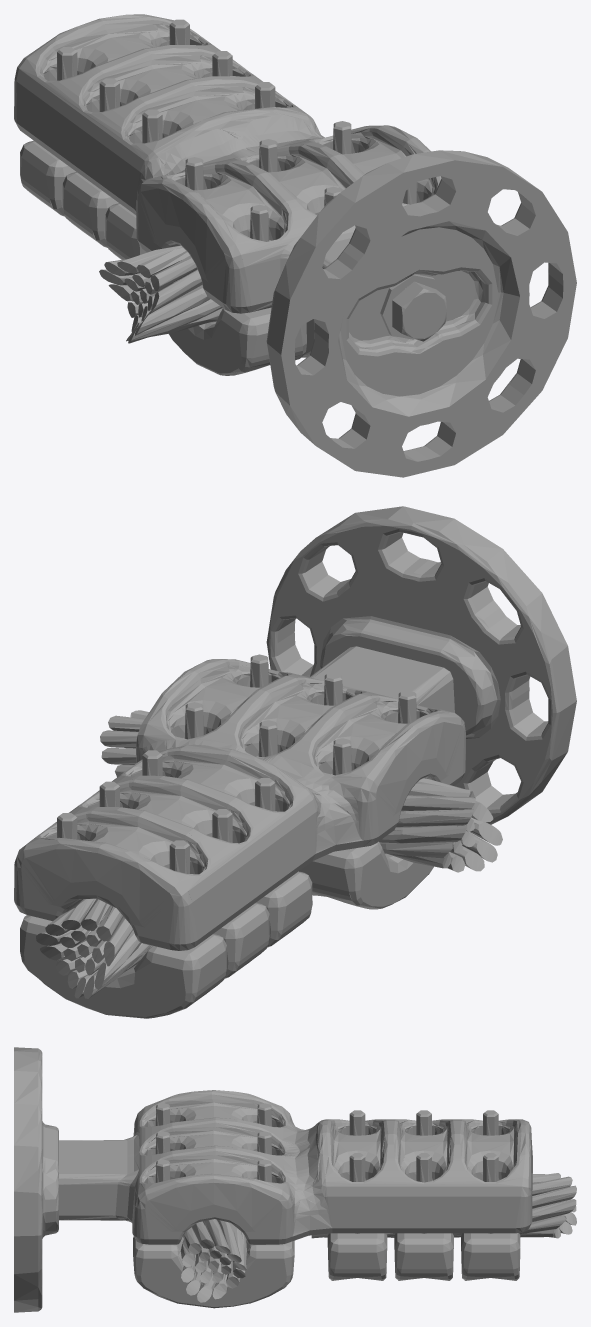
3 renders of one model, top to bottom at view 1: azimuth 30°, elevation 25°; view 2: azimuth 150°, elevation 25°; view 3: azimuth 270°, elevation 25°, orthographic. The views are drawn at different scales.
Parts seen in each view (by area): view 1: Prueba; view 2: Prueba; view 3: Prueba.
Part boxes in pixels (x1,y1,x2,y2): Prueba: (14, 14, 576, 477); Prueba: (14, 506, 576, 1018); Prueba: (14, 1047, 576, 1312).
Size of the model in its own units: 0.6259 by 0.4987 by 1.06.
Materials: 1 (1 with a texture image).
